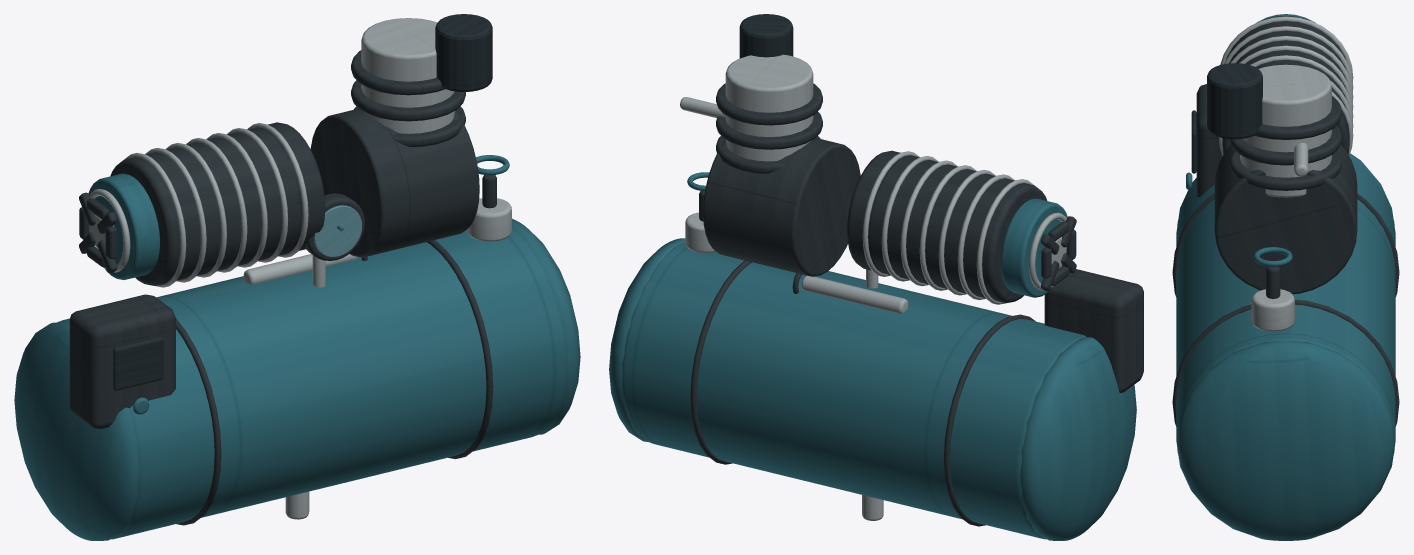
The model's file is COMPRESSOR-001.fbx.
3 renders of one model, left to right at view 1: azimuth 30°, elevation 25°; view 2: azimuth 150°, elevation 25°; view 3: azimuth 270°, elevation 25°, orthographic. The views are drawn at different scales.
Parts seen in each view (by area): view 1: Receiver_Tank, Motor_Body, Tank_End_L, Pump_Crankcase, Compressor_Control, Cylinder_Head, Intake_Filter, Motor_Fan_Cover, Tank_End_R, Pressure_Switch_Cover, Head_Fin_2, Main_Gauge_Glass (+15 smaller); view 2: Receiver_Tank, Tank_End_L, Pump_Crankcase, Motor_Body, Compressor_Control, Cylinder_Head, Motor_Fan_Cover, Tank_End_R, Intake_Filter, Manifold, Head_Fin_3, Tank_Weld_Band (+12 smaller); view 3: Tank_End_R, Receiver_Tank, Pump_Crankcase, Cylinder_Head, Intake_Filter, Motor_Body, Compressor_Control, Head_Fin_1, Tank_Weld_Band.001, Valve_Base, Head_Fin_2, Head_Fin_3 (+11 smaller).
Part boxes in pixels (x1,y1,x2,y2): Receiver_Tank: [57, 228, 565, 539]; Motor_Body: [110, 122, 325, 285]; Tank_End_L: [14, 322, 139, 540]; Pump_Crankcase: [310, 108, 479, 257]; Compressor_Control: [69, 294, 175, 428]; Cylinder_Head: [361, 18, 454, 133]; Intake_Filter: [435, 14, 492, 91]; Motor_Fan_Cover: [88, 173, 159, 279]; Tank_End_R: [512, 218, 580, 434]; Pressure_Switch_Cover: [113, 337, 163, 390]; Head_Fin_2: [351, 80, 465, 121]; Main_Gauge_Glass: [313, 205, 361, 256]; Receiver_Tank: [622, 242, 1086, 539]; Tank_End_L: [1020, 337, 1136, 540]; Pump_Crankcase: [703, 138, 860, 276]; Motor_Body: [847, 150, 1047, 303]; Compressor_Control: [1044, 269, 1143, 392]; Cylinder_Head: [725, 54, 813, 161]; Motor_Fan_Cover: [1001, 198, 1067, 297]; Tank_End_R: [609, 238, 685, 441]; Intake_Filter: [739, 14, 793, 58]; Manifold: [801, 275, 908, 313]; Head_Fin_3: [716, 83, 822, 125]; Tank_Weld_Band: [943, 314, 1035, 526]; Tank_End_R: [1176, 341, 1395, 540]; Receiver_Tank: [1176, 157, 1395, 452]; Pump_Crankcase: [1214, 145, 1357, 294]; Cylinder_Head: [1240, 64, 1331, 197]; Intake_Filter: [1207, 63, 1262, 139]; Motor_Body: [1222, 16, 1349, 154]; Compressor_Control: [1196, 84, 1222, 197]; Head_Fin_1: [1230, 151, 1341, 190]; Tank_Weld_Band.001: [1172, 299, 1399, 426]; Valve_Base: [1251, 289, 1294, 331]; Head_Fin_2: [1230, 125, 1341, 165]; Head_Fin_3: [1255, 96, 1341, 139].
Size of the model in its own units: 2.22 by 2.01 by 0.89.
